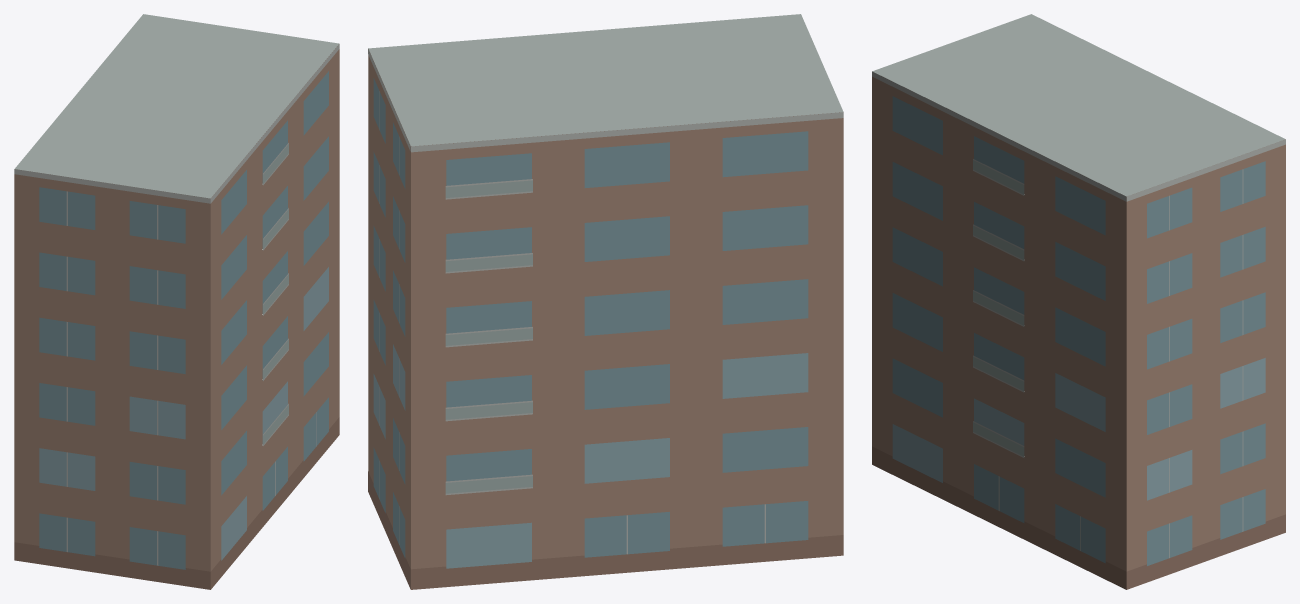
Rendered from survey-upis-32511180.glb.
The picture shows the model from 3 angles, left to right: view 1: azimuth 30°, elevation 25°; view 2: azimuth 150°, elevation 25°; view 3: azimuth 270°, elevation 25°; orthographic projection. The views are drawn at different scales.
Parts seen in each view (by area): view 1: survey-upis-32511180.tmp; view 2: survey-upis-32511180.tmp; view 3: survey-upis-32511180.tmp.
Part boxes in pixels (<box>): survey-upis-32511180.tmp: <box>14,14,339,589</box>; survey-upis-32511180.tmp: <box>368,14,843,589</box>; survey-upis-32511180.tmp: <box>872,14,1285,589</box>.
Size of the model in its own units: 18.23 by 18.3 by 17.46.
